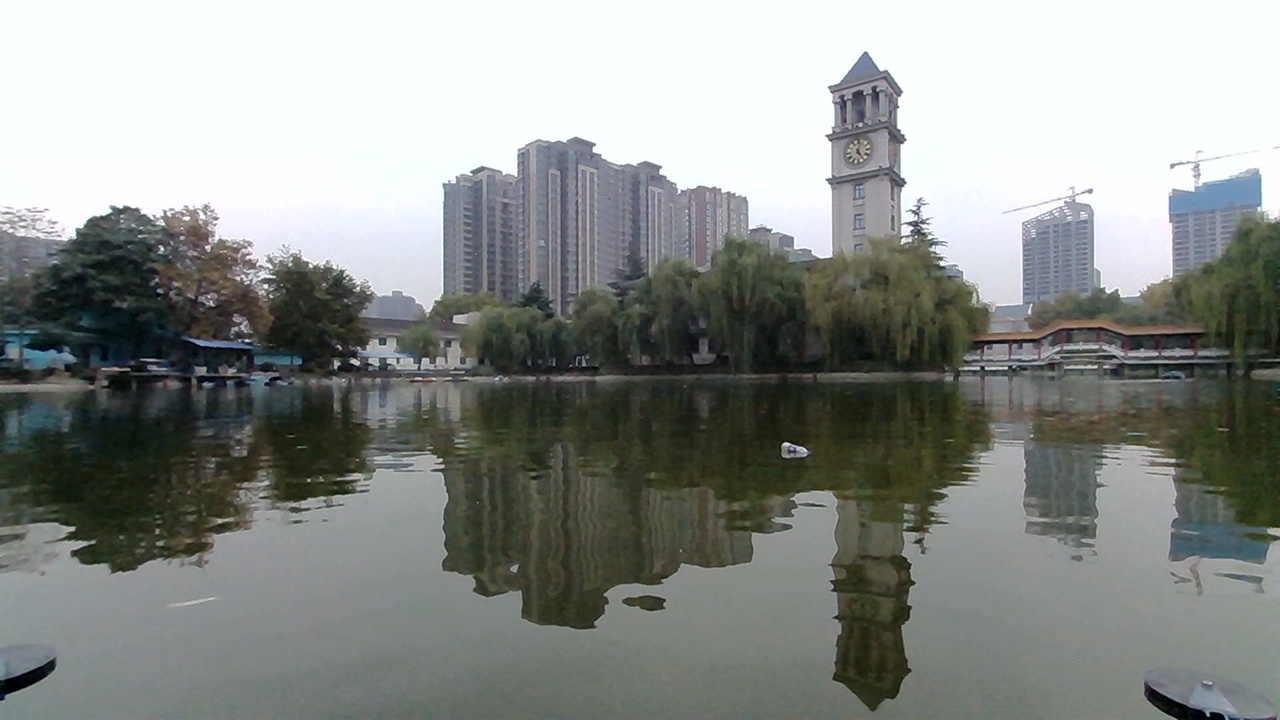bottle: (770, 432, 809, 462)
